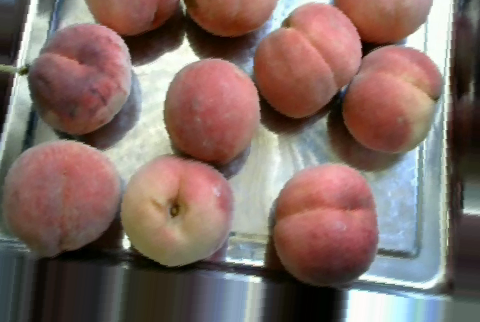Peach: (1, 139, 118, 257), (271, 163, 379, 287), (250, 1, 363, 116), (119, 153, 232, 268), (29, 23, 133, 133), (340, 47, 443, 149), (162, 57, 260, 164)
